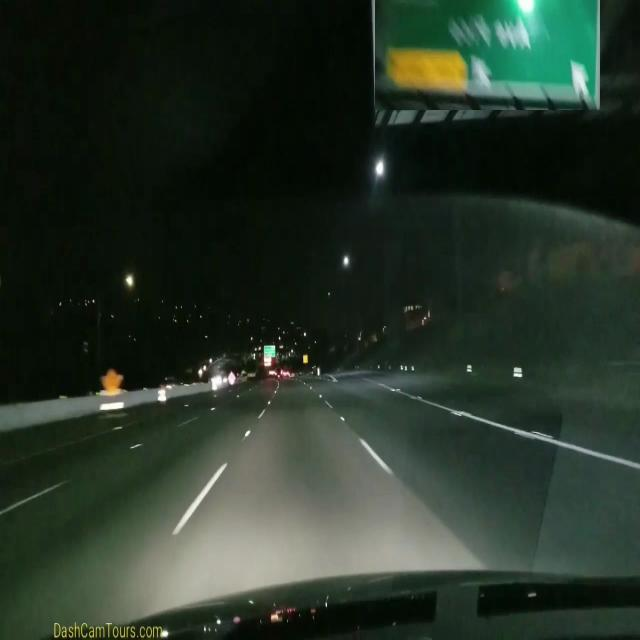street-signs: (375, 0, 600, 110), (264, 343, 275, 359)
